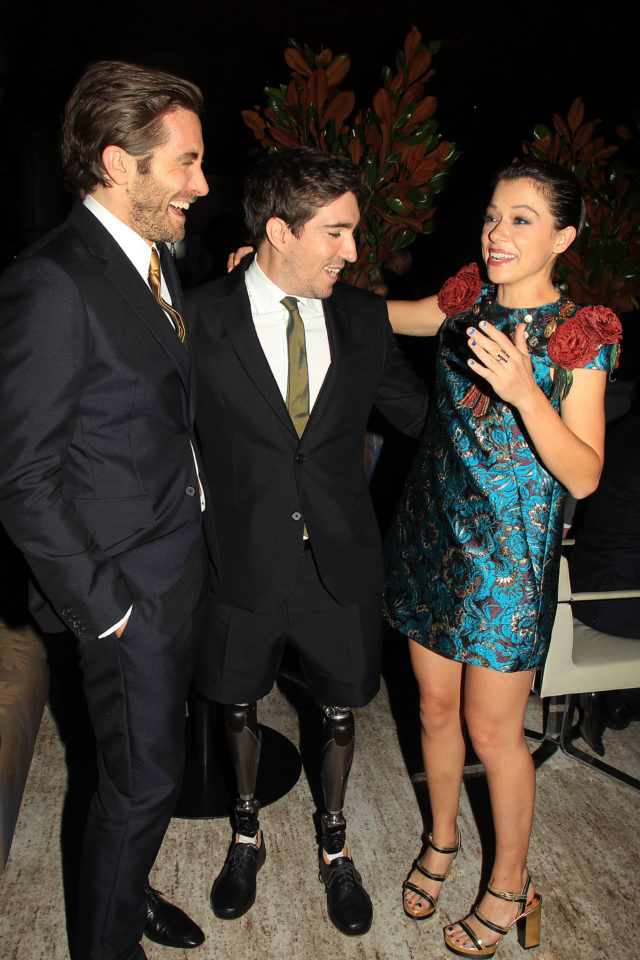Person: (26, 73, 220, 960), (404, 173, 611, 955), (223, 176, 376, 933)
